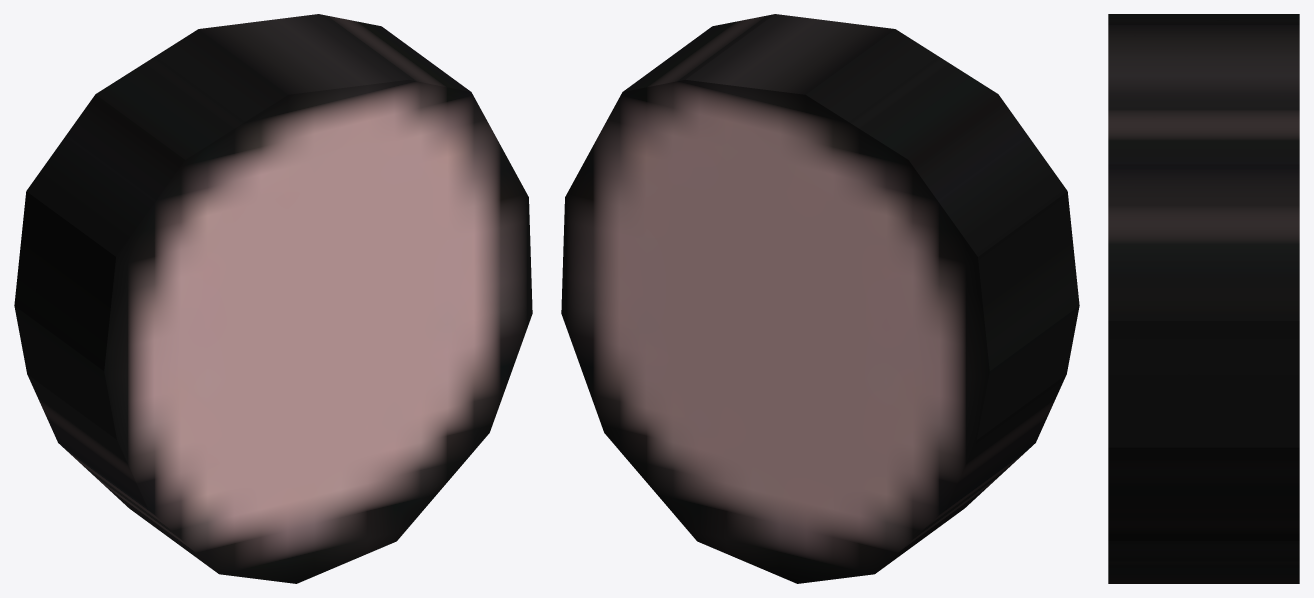
File: Mano.fbx
The picture shows the model from 3 angles, left to right: view 1: azimuth 30°, elevation 25°; view 2: azimuth 150°, elevation 25°; view 3: azimuth 270°, elevation 25°; orthographic projection. The views are drawn at different scales.
Parts seen in each view (by area): view 1: polySurface16; view 2: polySurface16; view 3: polySurface16.
Part boxes in pixels (x1,y1,x2,y2): polySurface16: [14, 14, 532, 583]; polySurface16: [561, 14, 1079, 583]; polySurface16: [1108, 14, 1299, 583].
Bounding box in the file's own units: 0.1067 × 0.1169 × 0.0388.
